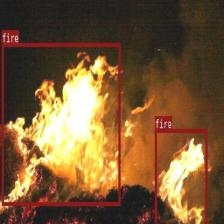fire: (1, 42, 120, 205), (154, 128, 208, 224)
